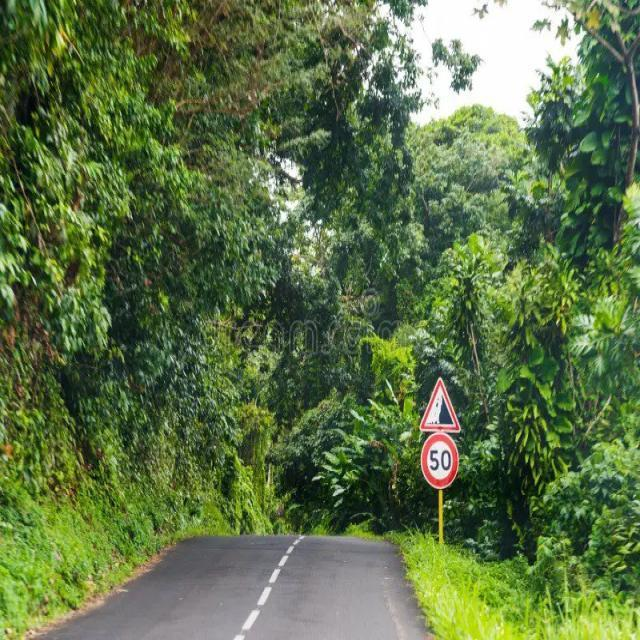speed limit 50: (418, 432, 461, 491)
